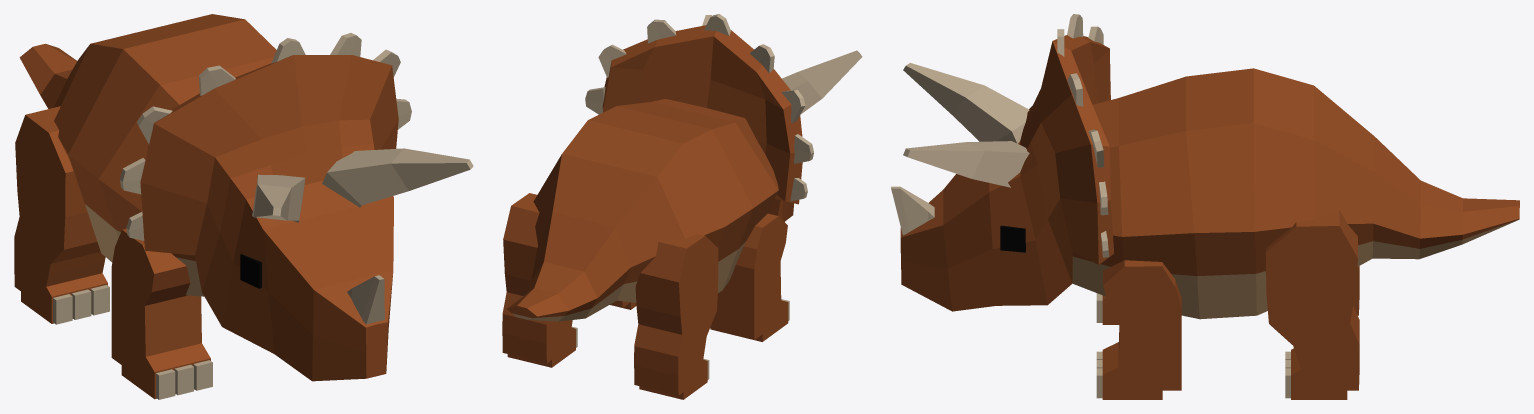
Rendered from Triceratops.fbx.
3 renders of one model, left to right at view 1: azimuth 30°, elevation 25°; view 2: azimuth 150°, elevation 25°; view 3: azimuth 270°, elevation 25°, orthographic. The views are drawn at different scales.
Parts seen in each view (by area): view 1: Triceratops; view 2: Triceratops; view 3: Triceratops.
Boxes of the visible parts, x1,y1,x2,y2 form: Triceratops: [14, 14, 473, 399]; Triceratops: [502, 14, 862, 399]; Triceratops: [891, 14, 1519, 399].
Size of the model in its own units: 206 by 238 by 423.
